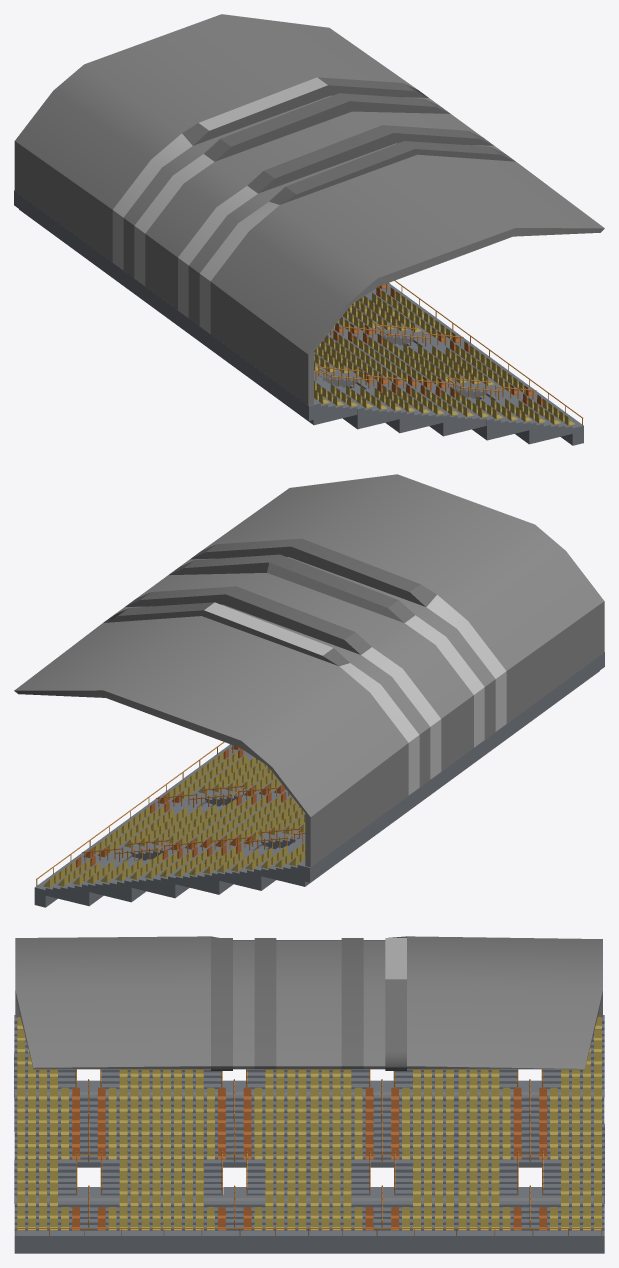
Rendered from tribuna.fbx.
3 renders of one model, top to bottom at view 1: azimuth 30°, elevation 25°; view 2: azimuth 150°, elevation 25°; view 3: azimuth 270°, elevation 25°, orthographic.
Visible parts, largest first — view 1: Tribune; view 2: Tribune; view 3: Tribune.
Part boxes in pixels (bbox=[...]): Tribune: bbox=[14, 14, 604, 445]; Tribune: bbox=[14, 474, 604, 907]; Tribune: bbox=[14, 936, 604, 1253].
Bounding box in the file's own units: 5691 × 4260 × 9518.
